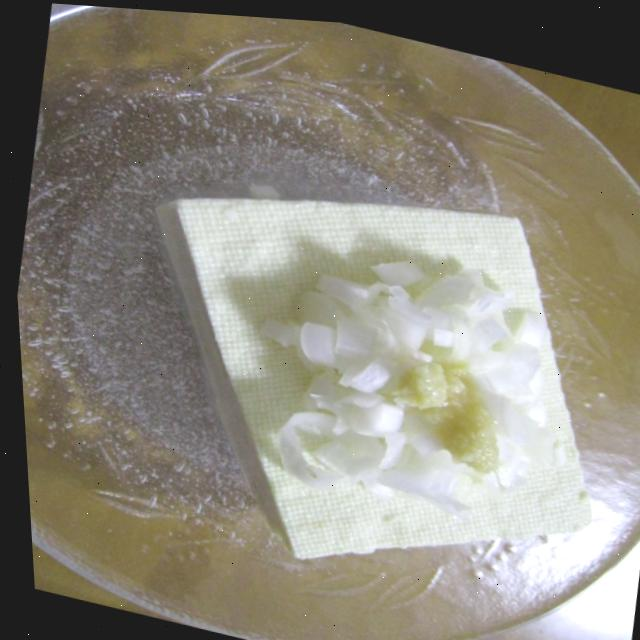豆腐料理: (84, 117, 640, 640)
